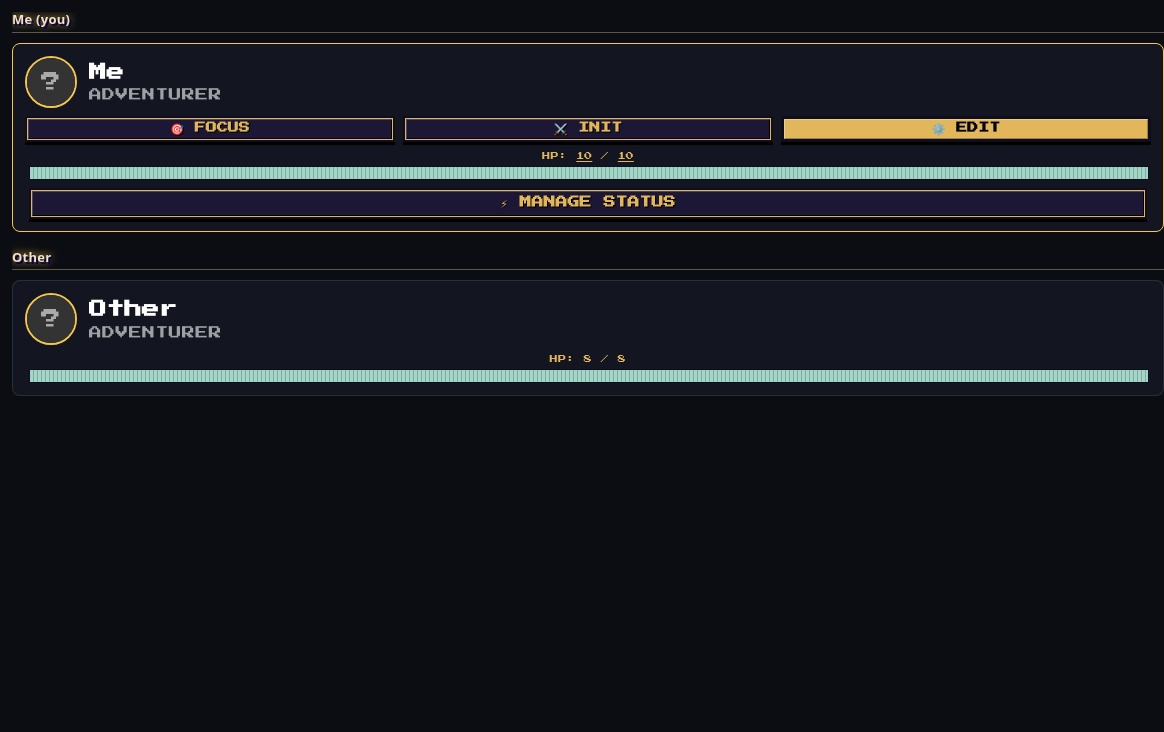
MobileEntitiesList — Save character / Load character on a phone (U9) › names its scope before a file is chosen, on the viewer's own row
This screenshot has width=1164, height=732.
Click the button "⚙️ EDIT": (966,129) [781,116,1151,142]
(page scrolled)
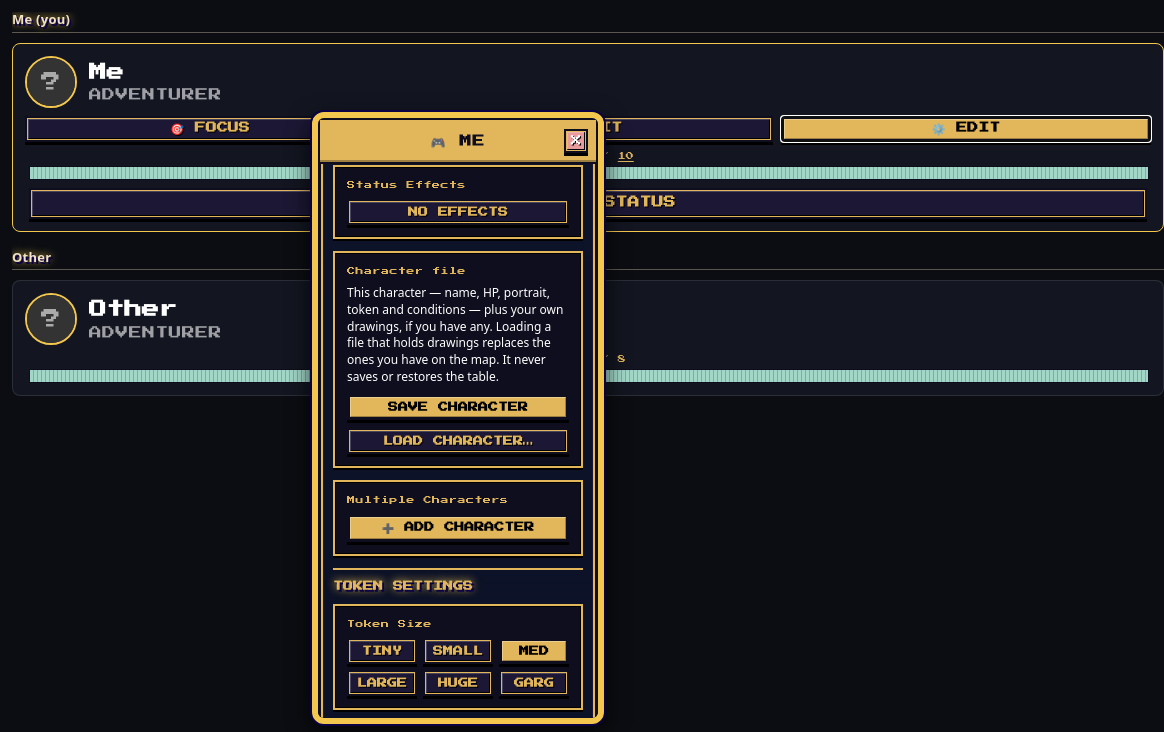
expect the text "Character file" is shown: met, box [347,267,466,275]
expect the text "plus your own drawings" is shown: met, box [347,284,564,385]
expect the button "Save character" is shown: met, box [347,394,569,420]
